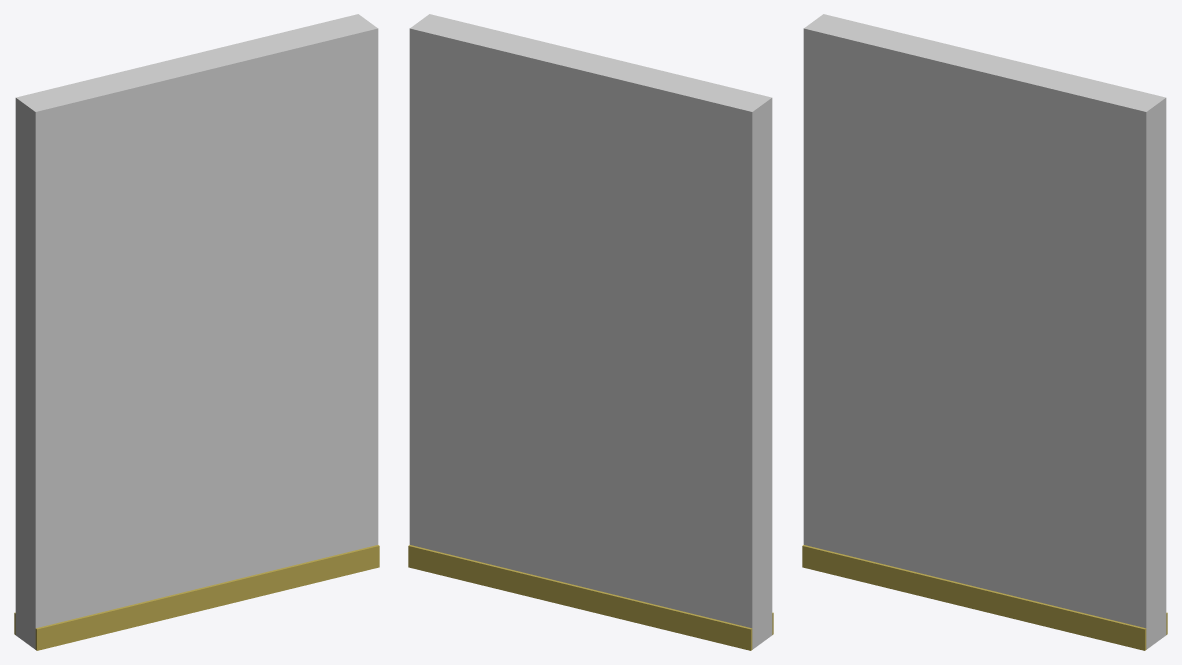
The model's file is MOD_24_Corridor_Narrow.fbx.
The picture shows the model from 3 angles, left to right: view 1: azimuth 30°, elevation 25°; view 2: azimuth 150°, elevation 25°; view 3: azimuth 330°, elevation 25°; orthographic projection.
Parts seen in each view (by area): view 1: MOD_24_Corridor_Narrow; view 2: MOD_24_Corridor_Narrow; view 3: MOD_24_Corridor_Narrow.
Boxes of the visible parts, <box> form: MOD_24_Corridor_Narrow: <box>14,14,379,650</box>; MOD_24_Corridor_Narrow: <box>408,14,773,650</box>; MOD_24_Corridor_Narrow: <box>802,14,1167,650</box>.
Bounding box in the file's own units: 2 × 3 × 0.23.
